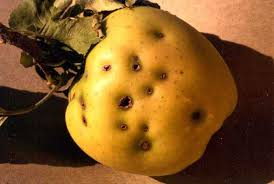damaged_apple: (65, 15, 234, 174)
